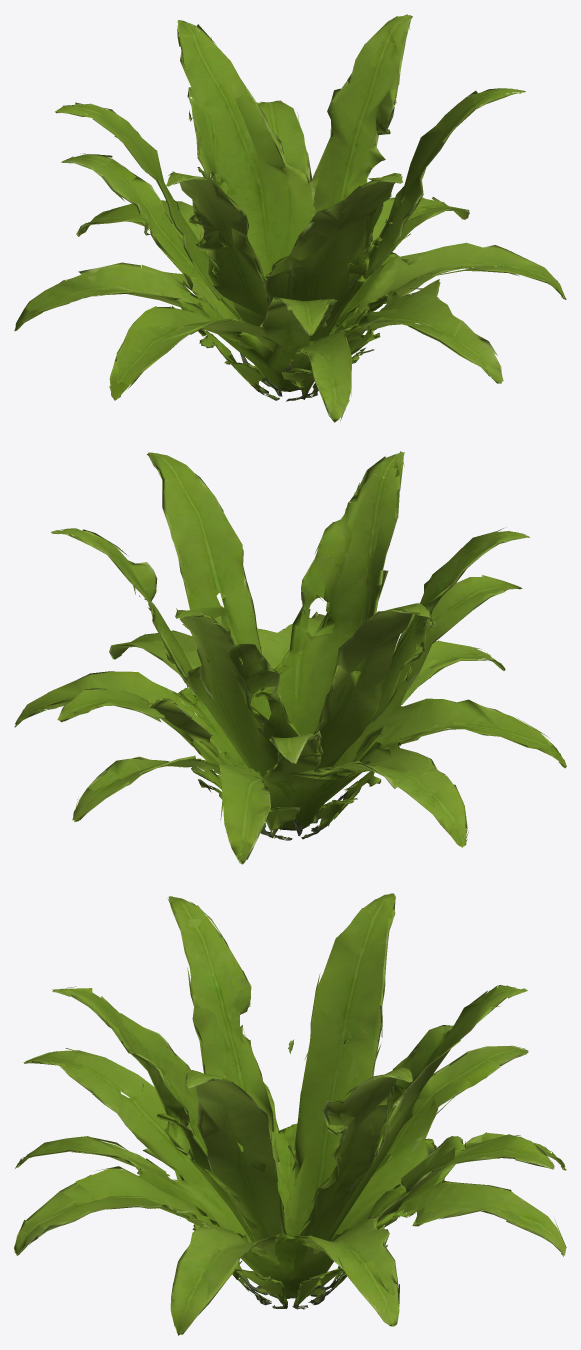
The model's file is javafern.glb.
3 renders of one model, top to bottom at view 1: azimuth 30°, elevation 25°; view 2: azimuth 150°, elevation 25°; view 3: azimuth 270°, elevation 25°, orthographic. The views are drawn at different scales.
Visible parts, largest first — view 1: Java Vern Narrow_tripo_mat_46d92b9d_0; view 2: Java Vern Narrow_tripo_mat_46d92b9d_0; view 3: Java Vern Narrow_tripo_mat_46d92b9d_0.
Part boxes in pixels (box(x1,y1,x2,y2)): Java Vern Narrow_tripo_mat_46d92b9d_0: box(14, 14, 566, 422); Java Vern Narrow_tripo_mat_46d92b9d_0: box(14, 451, 566, 864); Java Vern Narrow_tripo_mat_46d92b9d_0: box(14, 893, 566, 1335).
Size of the model in its own units: 0.000546 by 0.000346 by 0.000546.
1 material, 1 textured.
